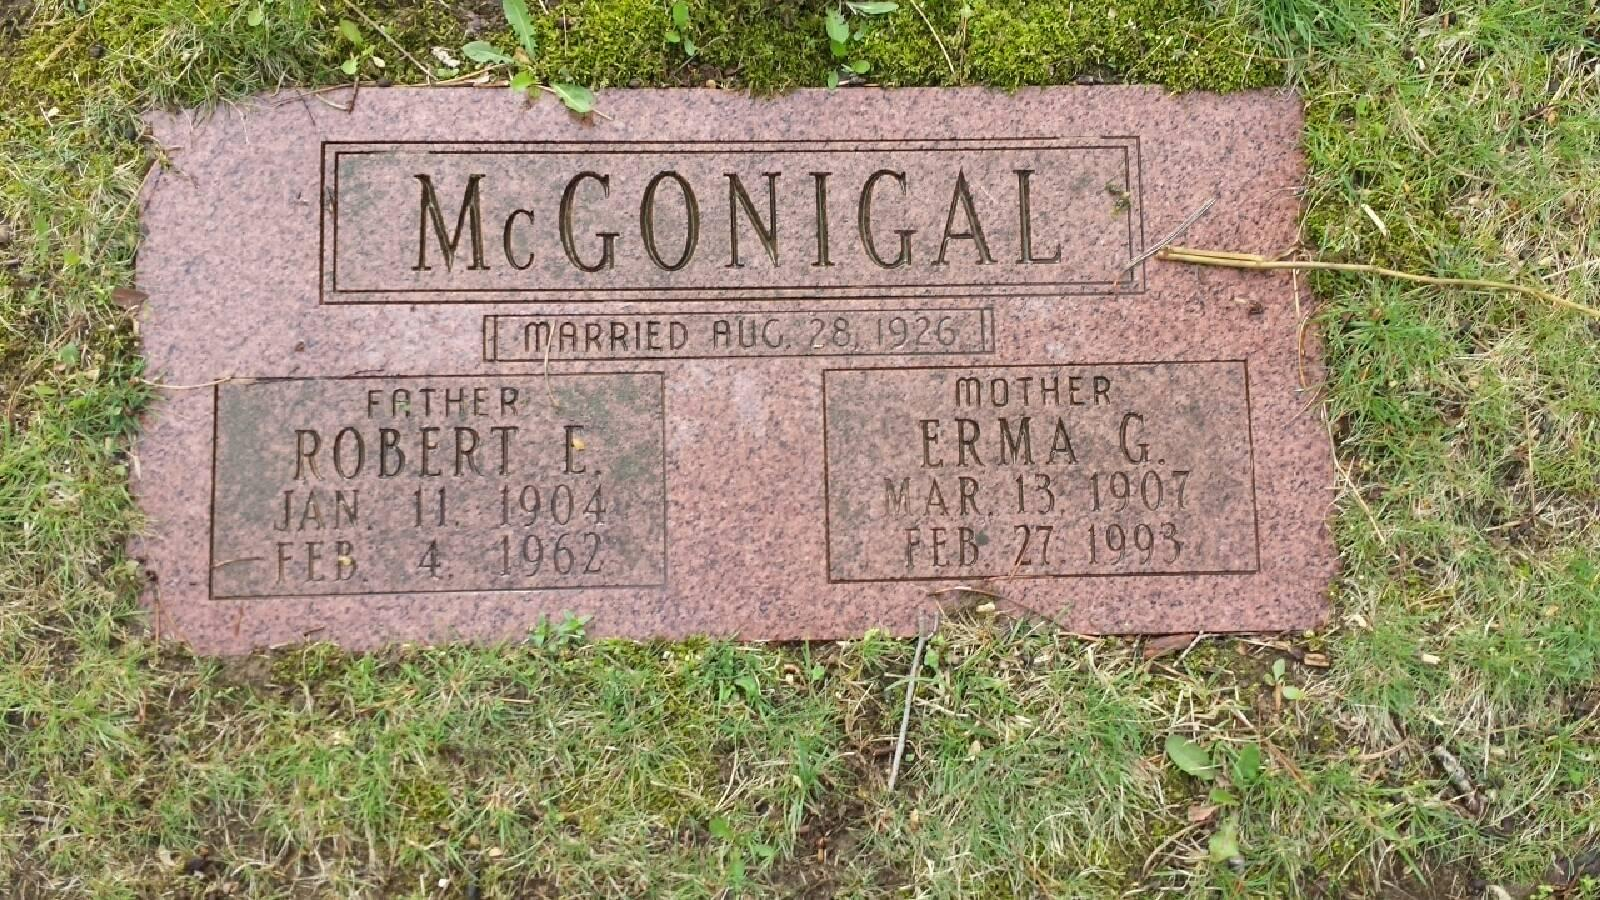flat: (114, 79, 1351, 678)
